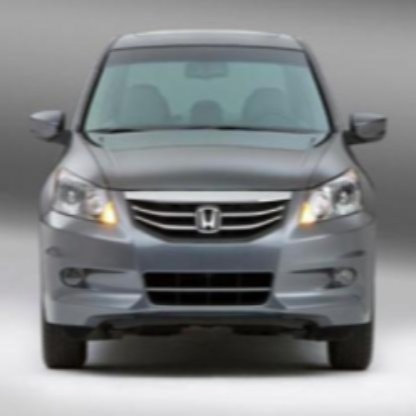Vehicle: (34, 29, 387, 373)
